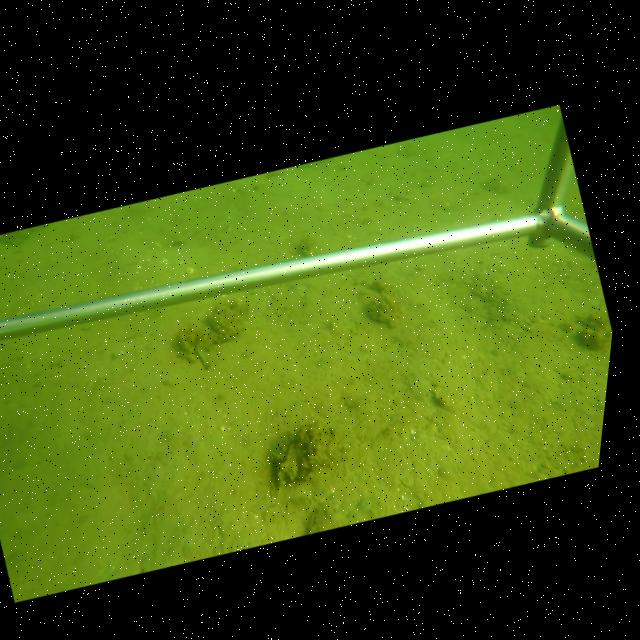Oyster-Closed: (193, 340, 214, 371)
Oyster-Indeterminate: (274, 433, 309, 484)
